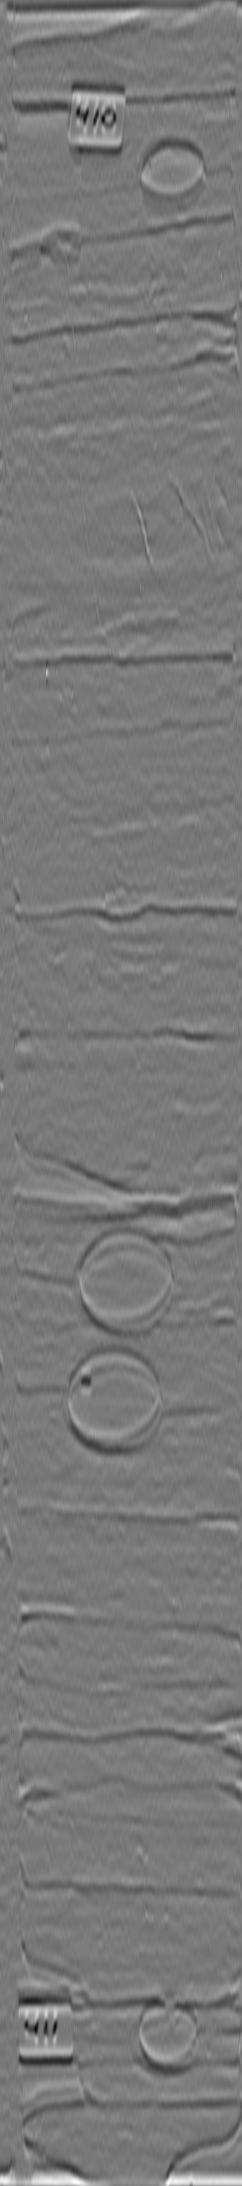hplug: (129, 132, 217, 211), (124, 2001, 206, 2080)
scal: (56, 1344, 174, 1455), (67, 1230, 179, 1337)
vplug: (13, 96, 92, 269)
